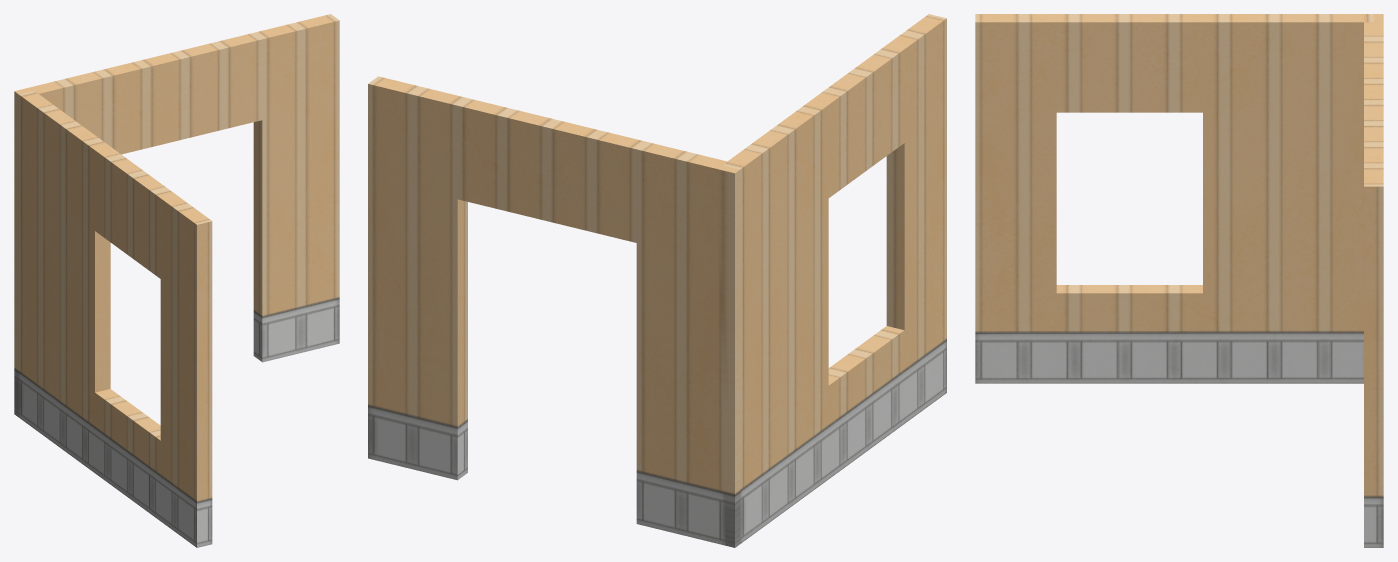
The model's file is Wall_8_Corner_F.fbx.
The picture shows the model from 3 angles, left to right: view 1: azimuth 30°, elevation 25°; view 2: azimuth 150°, elevation 25°; view 3: azimuth 270°, elevation 25°; orthographic projection. The views are drawn at different scales.
Parts seen in each view (by area): view 1: polySurface63; view 2: polySurface63; view 3: polySurface63.
Boxes of the visible parts, box(x1,y1,x2,y2) form: polySurface63: box(14, 14, 339, 547); polySurface63: box(368, 14, 946, 547); polySurface63: box(975, 14, 1383, 547).
Bounding box in the file's own units: 4.1 × 4 × 4.1.
